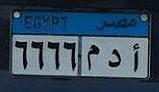6: (45, 40, 61, 71), (63, 41, 78, 71), (14, 40, 29, 69), (32, 41, 44, 70)
alif: (127, 41, 142, 75)
daal: (107, 49, 124, 67)
meem: (85, 43, 102, 72)
